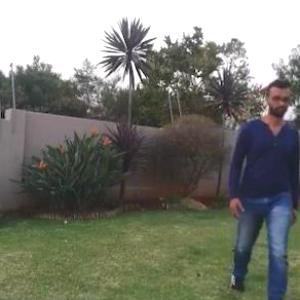follow: (243, 88, 299, 287)
